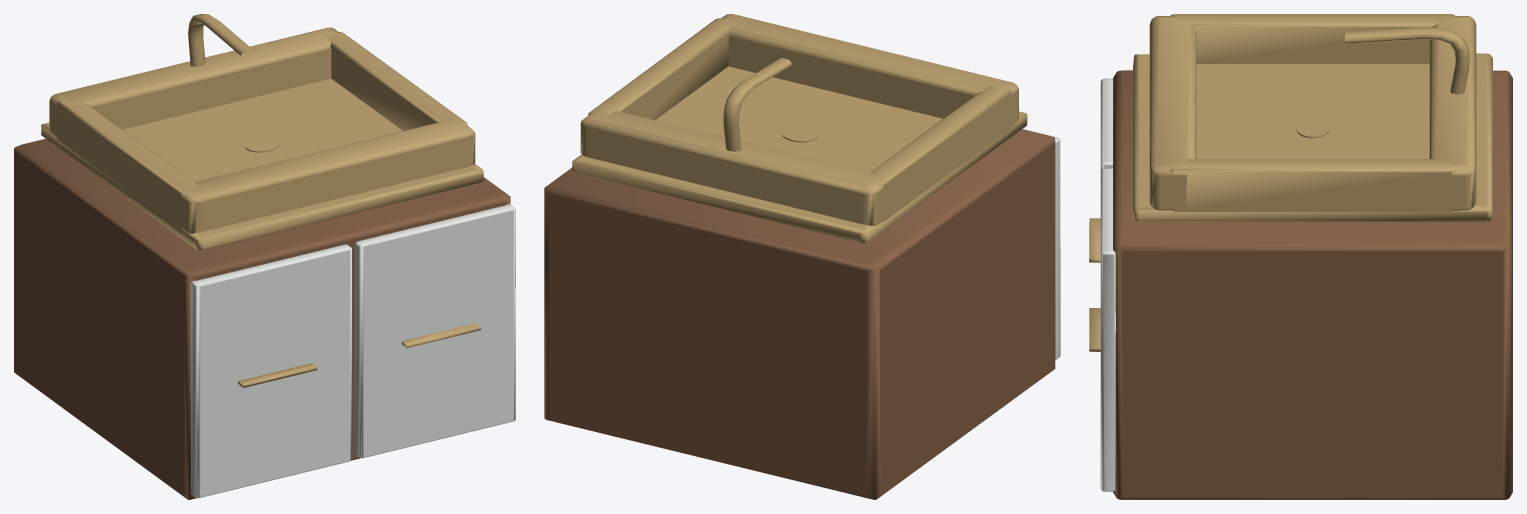
Rendered from sink-7-3.lod.glb.
The picture shows the model from 3 angles, left to right: view 1: azimuth 30°, elevation 25°; view 2: azimuth 150°, elevation 25°; view 3: azimuth 270°, elevation 25°; orthographic projection. The views are drawn at different scales.
Parts seen in each view (by area): view 1: upholstery (×3); view 2: upholstery (×3); view 3: upholstery (×3).
Part boxes in pixels (x1,y1,x2,y2): upholstery (×3): [14, 14, 515, 499]; upholstery (×3): [544, 14, 1060, 499]; upholstery (×3): [1089, 14, 1512, 499].
Size of the model in its own units: 1 by 1 by 1.
